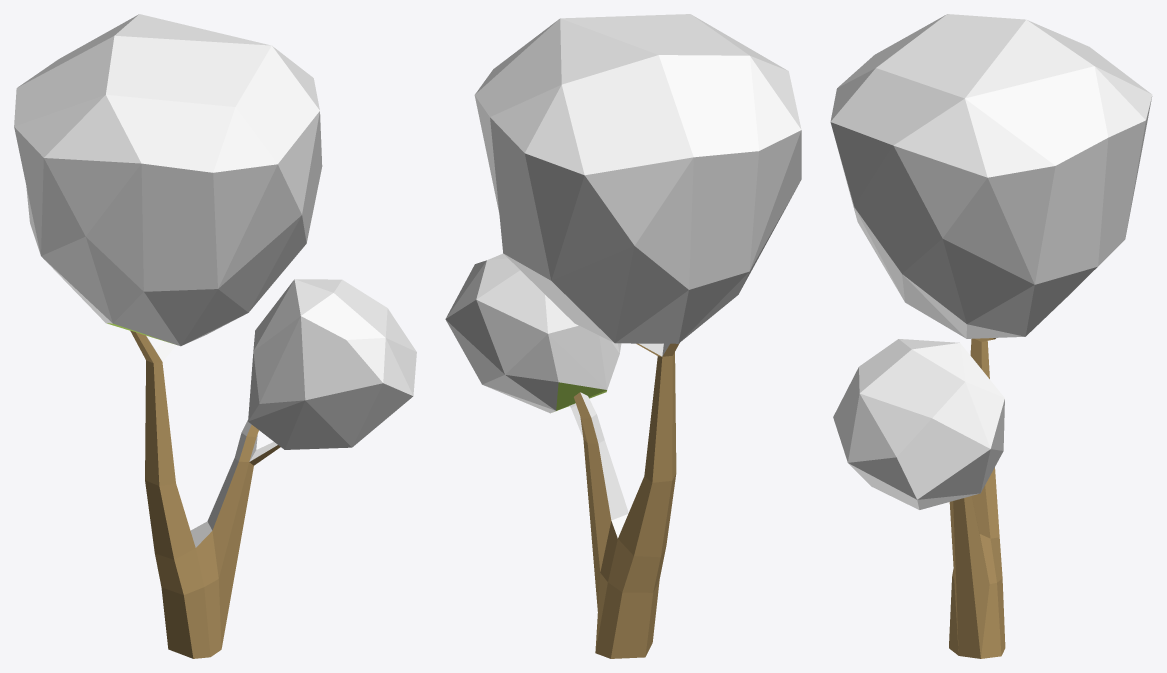
Rendered from Simple_Tree_m_Snow_03_LOD.fbx.
The picture shows the model from 3 angles, left to right: view 1: azimuth 30°, elevation 25°; view 2: azimuth 150°, elevation 25°; view 3: azimuth 270°, elevation 25°; orthographic projection. The views are drawn at different scales.
Visible parts, largest first — view 1: Simple_Tree_m_Snow_03_LOD0; view 2: Simple_Tree_m_Snow_03_LOD0; view 3: Simple_Tree_m_Snow_03_LOD0.
Boxes of the visible parts, box(x1,y1,x2,y2) form: Simple_Tree_m_Snow_03_LOD0: box(14, 14, 416, 658); Simple_Tree_m_Snow_03_LOD0: box(445, 14, 801, 658); Simple_Tree_m_Snow_03_LOD0: box(830, 14, 1152, 658).
Size of what is drawn, in the model's own units: 559 by 932 by 452.
